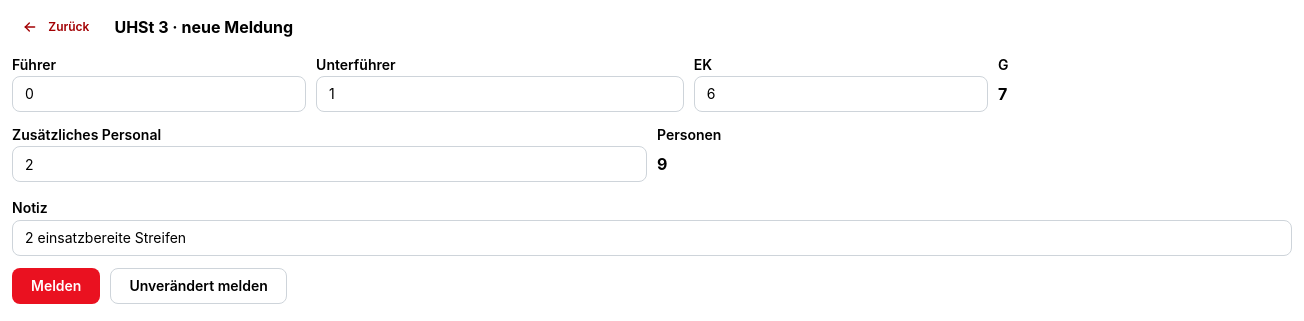
Test: ReportForm › shows G and Gesamtpersonen computed as you type
The width and height of the screenshot is (1304, 321).
Expected: the text named "G" reads "7", [998,84,1007,104]
Expected: the text named "Personen" reads "9", [657,154,667,174]
Replace the text in the field labelled "EK" with "12" at (841,94), box [694,76,988,112]
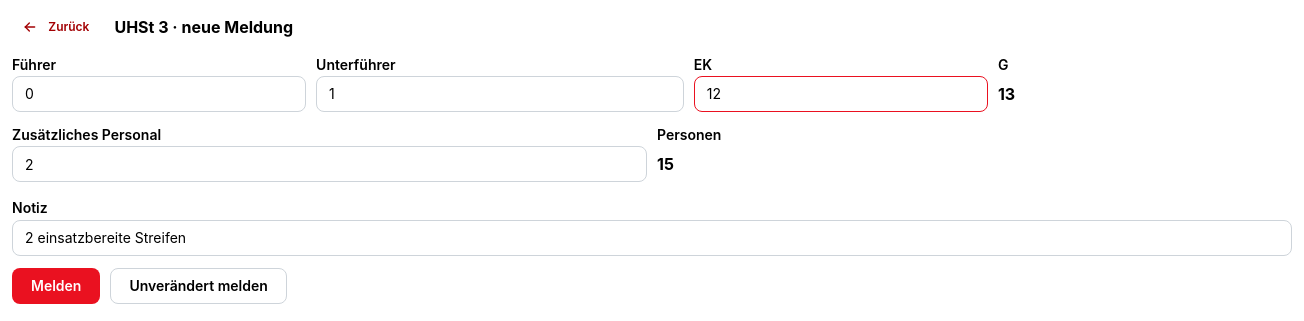
Expected: the text named "G" reads "13", [998,84,1015,104]
Expected: the text named "Personen" reads "15", [657,154,674,174]
